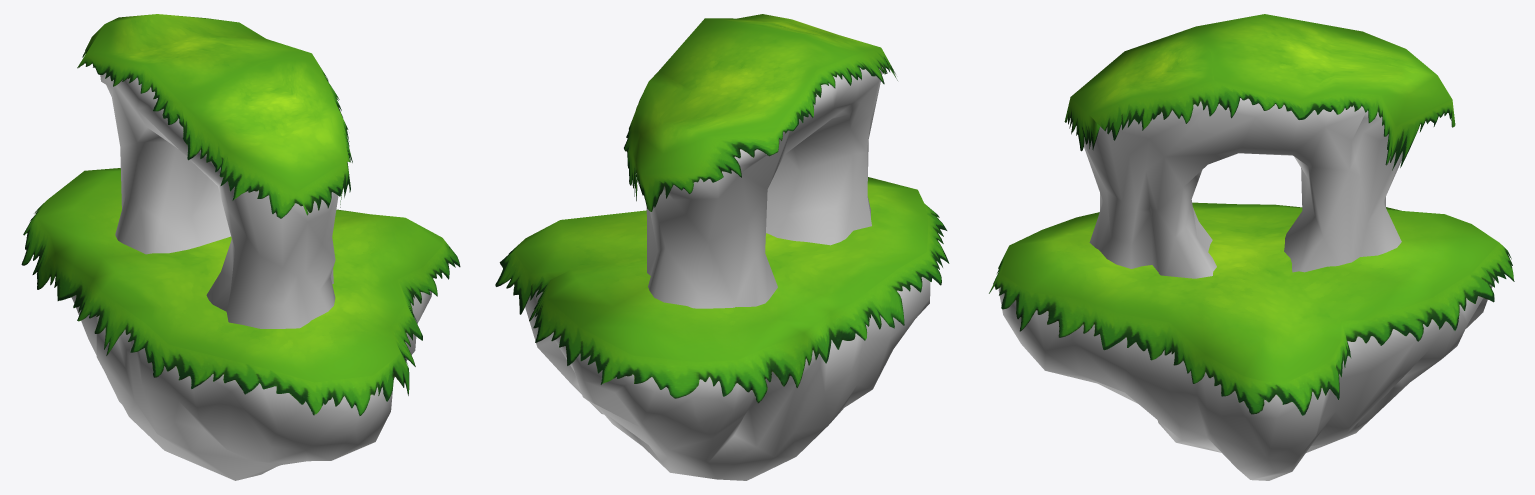
Rendered from Island_Small_02.fbx.
The picture shows the model from 3 angles, left to right: view 1: azimuth 30°, elevation 25°; view 2: azimuth 150°, elevation 25°; view 3: azimuth 270°, elevation 25°; orthographic projection. The views are drawn at different scales.
Parts seen in each view (by area): view 1: Island_Small_02; view 2: Island_Small_02; view 3: Island_Small_02.
Part boxes in pixels (x1=…): Island_Small_02: x1=21, y1=14, x2=460, y2=480; Island_Small_02: x1=495, y1=14, x2=949, y2=480; Island_Small_02: x1=989, y1=14, x2=1514, y2=480.
Bounding box in the file's own units: 390 × 407 × 494.
